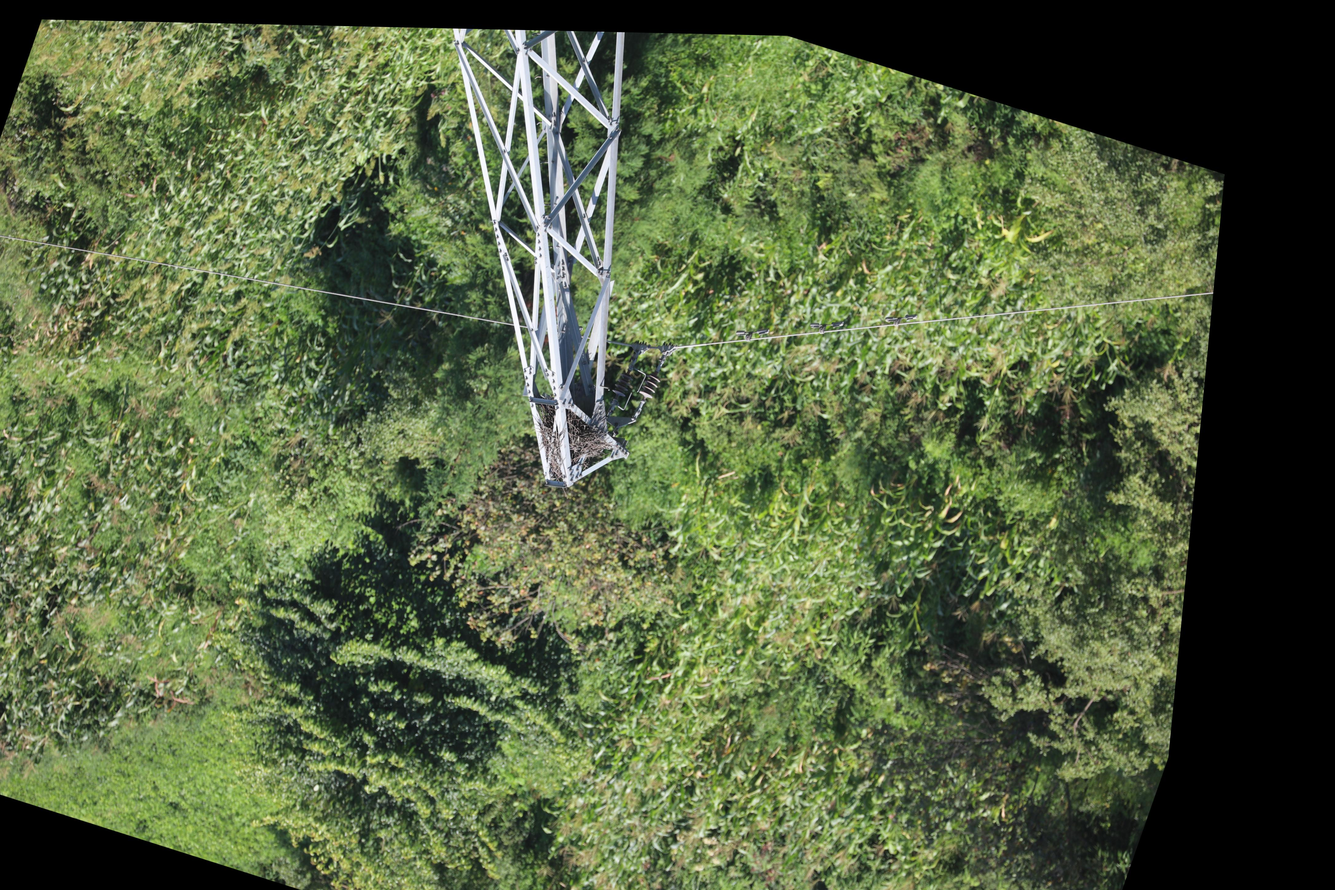damper: (730, 317, 774, 350), (805, 309, 848, 342), (880, 303, 921, 335)
